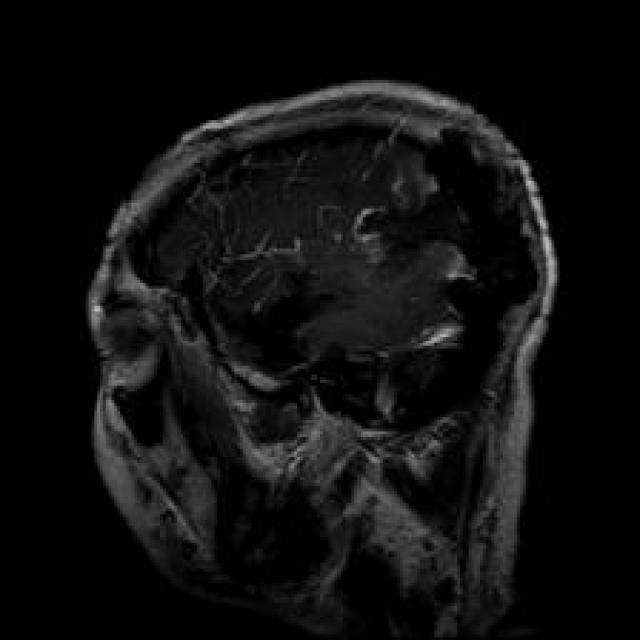glioma_tumor: (329, 111, 565, 362)
